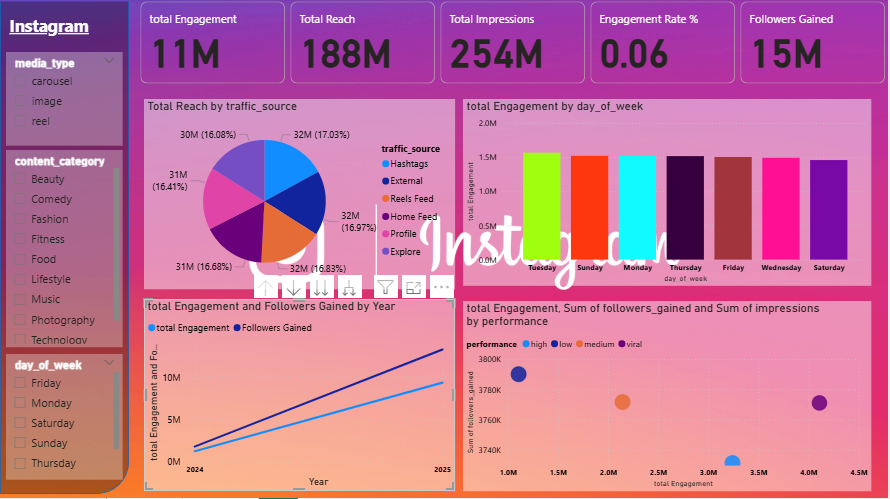

The page's visual inventory and layout, read from the dashboard file:
{"tool":"powerbi","page":{"name":"Page 1","canvas":[1280,720],"ordinal":0},"visuals":[{"type":"cardVisual","fields":{"Data":["Instagram_Analytics.total Engagement","Instagram_Analytics.Total Reach","Instagram_Analytics.Total Impressions","Instagram_Analytics.Engagement Rate %","Instagram_Analytics.Followers Gained"]},"box":[197.3,0,1082.9,128.2],"z":0},{"type":"shape","box":[0,4.3,185.8,709.9],"z":1000},{"type":"slicer","fields":{"Values":["Instagram_Analytics.media_type"]},"box":[8.6,77.8,168.5,135.4],"z":2000},{"type":"slicer","fields":{"Values":["Instagram_Analytics.content_category"]},"box":[8.6,218.9,168.5,283.7],"z":3000},{"type":"slicer","fields":{"Values":["Instagram_Analytics.day_of_week"]},"box":[8.6,512.6,168.5,181.4],"z":4000},{"type":"lineChart","fields":{"Category":["Instagram_Analytics.post_date.Variation.Date Hierarchy.Year","Instagram_Analytics.post_date.Variation.Date Hierarchy.Quarter","Instagram_Analytics.post_date.Variation.Date Hierarchy.Month","Instagram_Analytics.post_date.Variation.Date Hierarchy.Day"],"Y":["Instagram_Analytics.total Engagement","Instagram_Analytics.Followers Gained"]},"box":[207.4,433.4,447.8,276.5],"z":5000},{"type":"columnChart","fields":{"Category":["Instagram_Analytics.day_of_week"],"Y":["Instagram_Analytics.total Engagement"]},"box":[666.7,145.4,587.5,269.3],"z":6000},{"type":"pieChart","fields":{"Category":["Instagram_Analytics.traffic_source"],"Y":["Instagram_Analytics.Total Reach"]},"box":[207.4,145.4,447.8,273.6],"z":7000},{"type":"scatterChart","fields":{"Series":["Instagram_Analytics.performance"],"Size":["Sum(Instagram_Analytics.impressions)"],"X":["Instagram_Analytics.total Engagement"],"Y":["Sum(Instagram_Analytics.followers_gained)"]},"box":[667,436,588,274],"z":8000},{"type":"textbox","box":[8.6,17.3,151.2,47.5],"z":9000}]}

Visuals, with their boxes in screenshot pixels (x1, y1, x2, y2), scaled from the page's 1280x720 canvas onto the 890x499 screenshot:
cardVisual - Instagram_Analytics.total Engagement x Instagram_Analytics.Total Reach: box(137, 0, 889, 89)
shape: box(0, 3, 129, 495)
slicer - Instagram_Analytics.media_type: box(6, 54, 123, 148)
slicer - Instagram_Analytics.content_category: box(6, 152, 123, 348)
slicer - Instagram_Analytics.day_of_week: box(6, 355, 123, 481)
lineChart - Instagram_Analytics.post_date.Variation.Date Hierarchy.Year x Instagram_Analytics.post_date.Variation.Date Hierarchy.Quarter: box(144, 300, 456, 492)
columnChart - Instagram_Analytics.day_of_week x Instagram_Analytics.total Engagement: box(464, 101, 872, 287)
pieChart - Instagram_Analytics.traffic_source x Instagram_Analytics.Total Reach: box(144, 101, 456, 290)
scatterChart - Instagram_Analytics.performance x Sum(Instagram_Analytics.impressions): box(464, 302, 873, 492)
textbox: box(6, 12, 111, 45)
